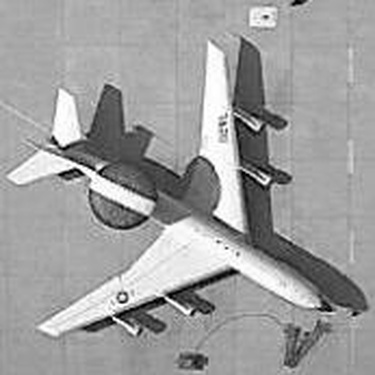airplane: (4, 4, 345, 351)
